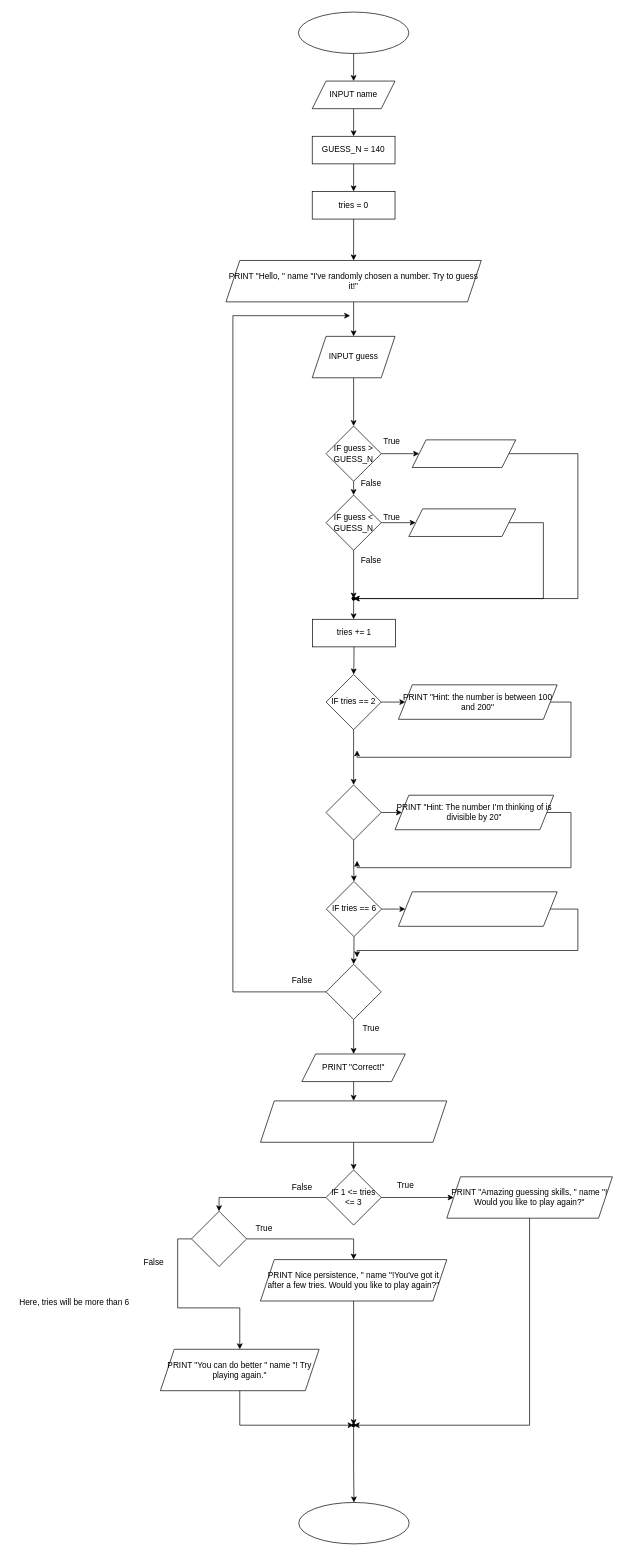
Some shapes in this 624 by 1556 pixel diagram are drawn without their labels. Here are the shapes that lost their labels. From the top down, the centre of each, then its label:
(353,32): Start_NumberGuesser
(464,453): PRINT "Too high!"
(462,522): PRINT "Too low!"
(353,812): IF tries == 4
(477,908): PRINT "Hint: The number is between 125 and 155"
(353,991): IF guess == guessNum
(353,1121): PRINT name ", it took you " tries "tries to guess the right number!"
(219,1238): IF 4 <= tries <= 6
(353,1523): End_NumberGuesser
